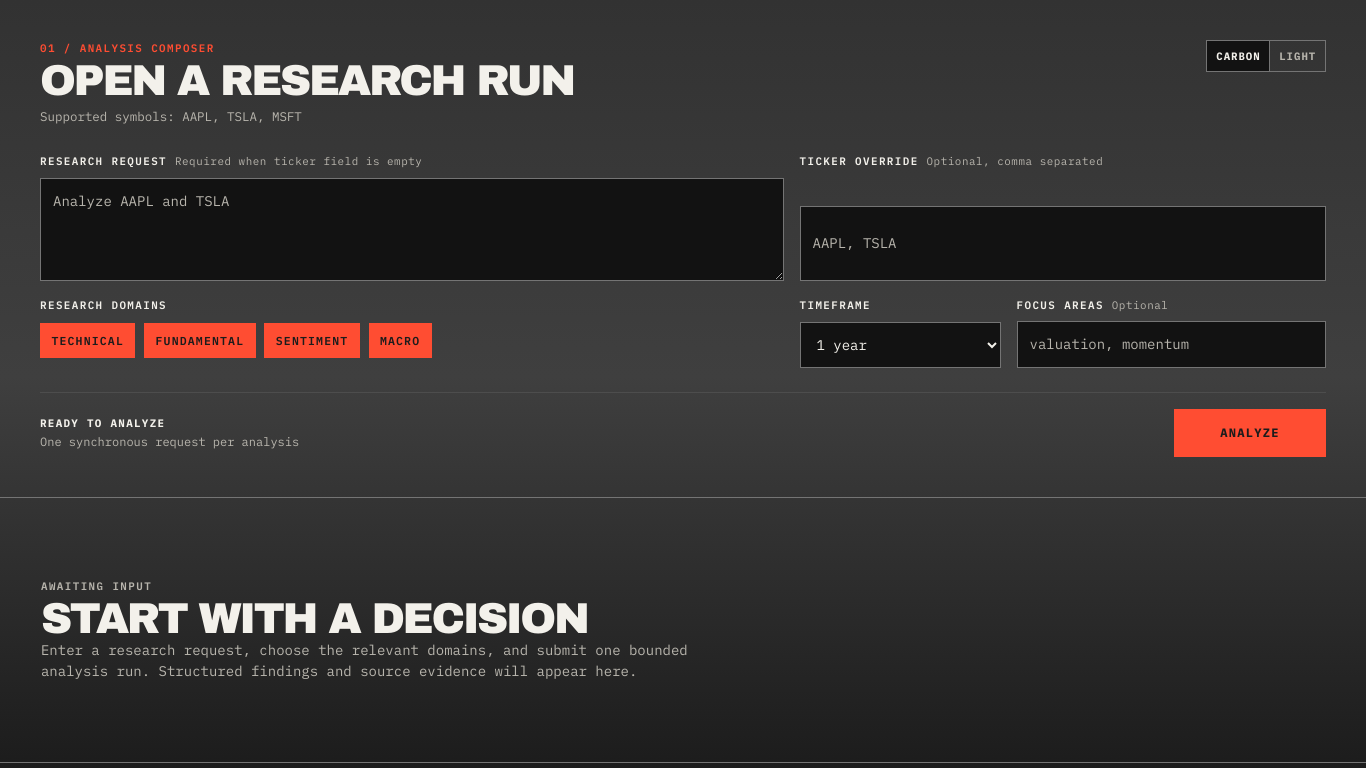
Test: dashboard states › retains form input and offers a stable offline recovery action
This screenshot has width=1366, height=768.
Type "Analyze AAPL" into the text box labelled "Research request Required when ticker field is empty" at [412, 229], box [40,178,784,281]
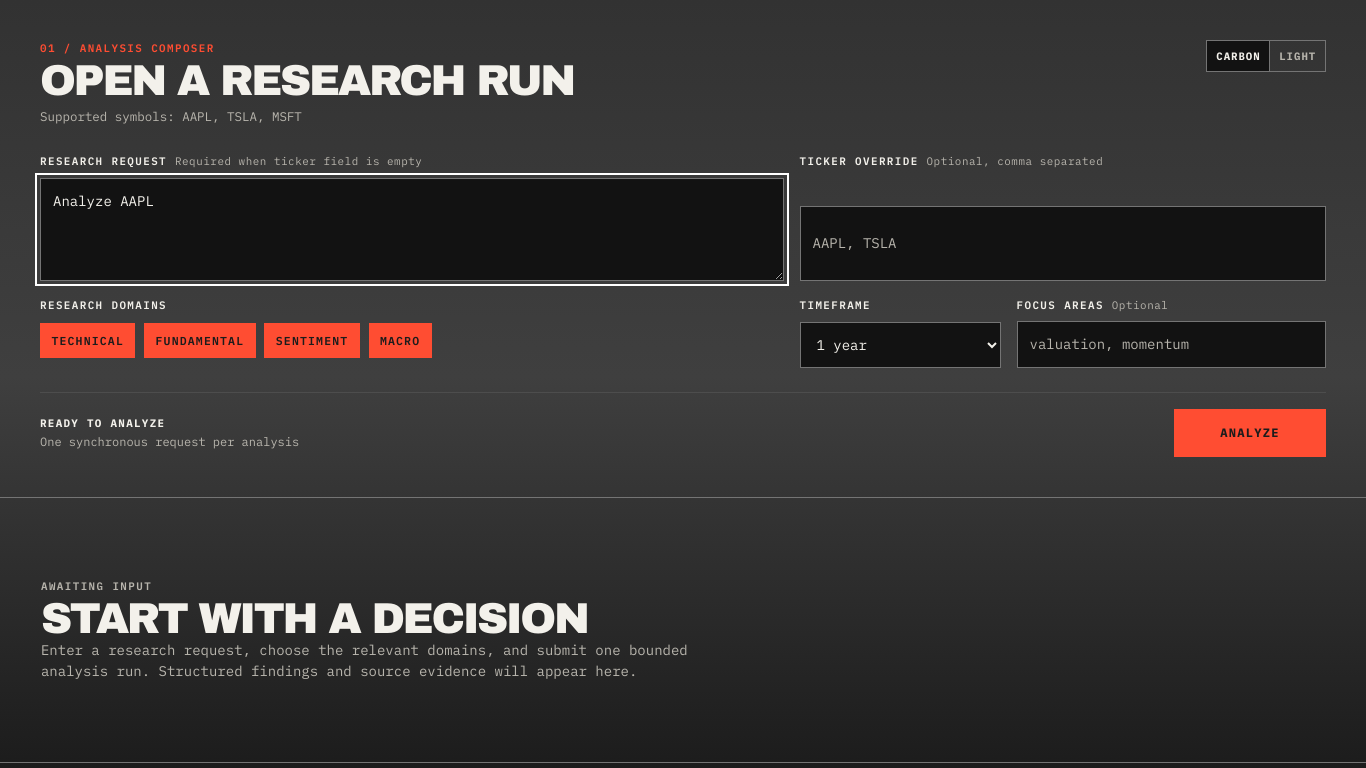
Click the button "Analyze" at [1250, 433], box [1174,409,1326,457]
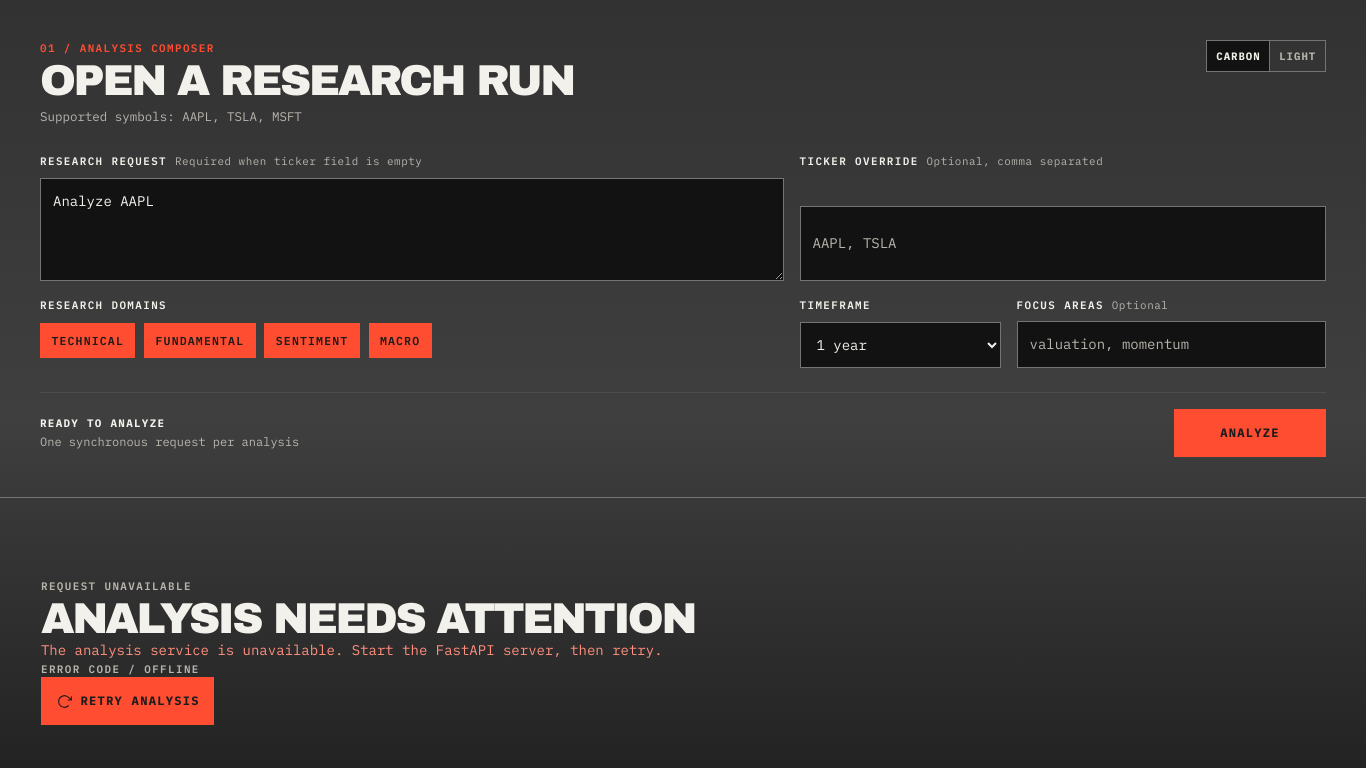
Check: the text "analysis service is unavailable" is shown, box [41,641,663,659]
Check: the button "Retry analysis" is shown, box [41,677,214,725]
